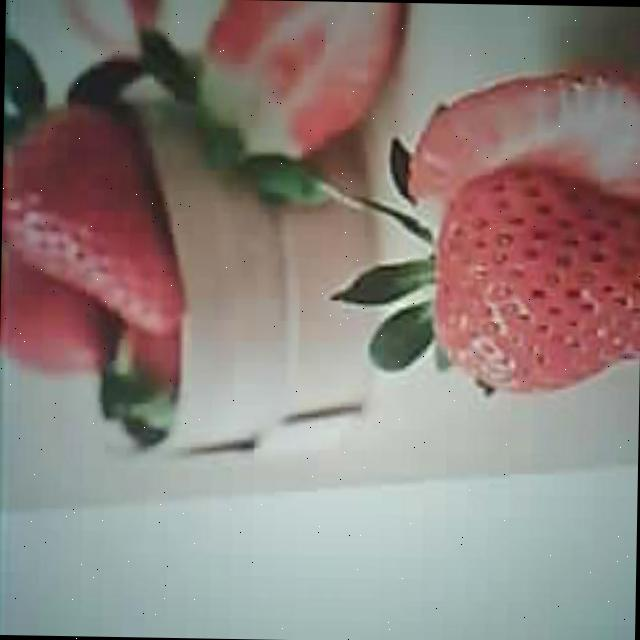strawberry: (424, 167, 640, 397), (0, 108, 186, 331)
